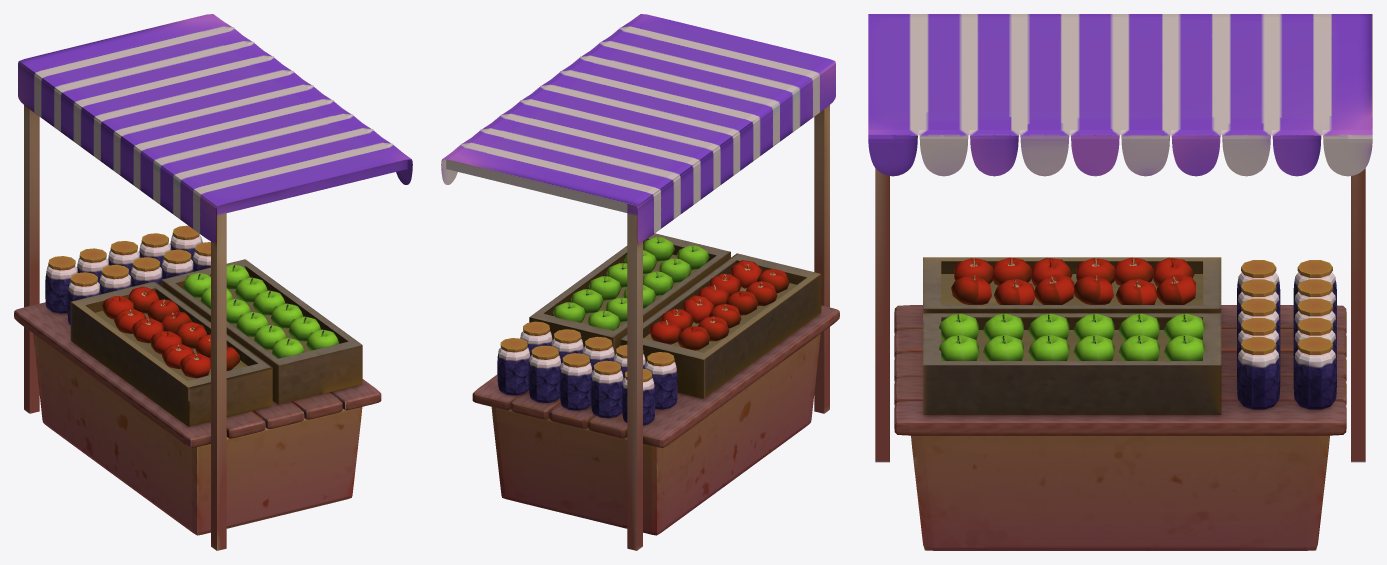
Rendered from Stall2purple.fbx.
3 views of the same model, side by side, from view 1: azimuth 30°, elevation 25°; view 2: azimuth 150°, elevation 25°; view 3: azimuth 270°, elevation 25° (orthographic). The views are drawn at different scales.
Parts seen in each view (by area): view 1: Plane, Cube, Cube.008, Cube.010, Cube.007, Cylinder.002, Cube.011, Sphere.003, Sphere.002, Sphere.004, Plane.007; view 2: Plane, Cube, Cylinder.002, Cube.008, Cube.010, Cube.007, Sphere.003, Cube.011, Sphere.002, Sphere.004, Plane.007; view 3: Plane, Cube, Cube.011, Cube.007, Cylinder.002, Sphere.003, Cube.008, Cube.010, Sphere.004, Sphere.002, Plane.007, Plane.008.
Boxes of the visible parts, <box> form: Plane: <box>18,14,412,242</box>; Cube: <box>33,334,362,535</box>; Cube.008: <box>24,105,407,550</box>; Cube.010: <box>70,281,272,426</box>; Cube.007: <box>14,302,381,447</box>; Cylinder.002: <box>45,225,210,324</box>; Cube.011: <box>161,259,362,404</box>; Sphere.003: <box>183,264,339,358</box>; Sphere.002: <box>102,286,191,343</box>; Sphere.004: <box>150,321,239,378</box>; Plane.007: <box>95,311,247,380</box>; Plane: <box>441,14,835,242</box>; Cube: <box>491,334,820,535</box>; Cylinder.002: <box>497,321,677,425</box>; Cube.008: <box>446,105,829,550</box>; Cube.010: <box>619,253,821,398</box>; Cube.007: <box>472,305,839,447</box>; Sphere.003: <box>553,237,709,330</box>; Cube.011: <box>529,233,730,354</box>; Sphere.002: <box>649,295,741,350</box>; Sphere.004: <box>697,260,789,315</box>; Plane.007: <box>644,274,796,352</box>; Plane: <box>868,14,1372,176</box>; Cube: <box>911,435,1329,550</box>; Cube.011: <box>923,313,1221,414</box>; Cube.007: <box>894,305,1346,435</box>; Cylinder.002: <box>1237,260,1336,409</box>; Sphere.003: <box>939,313,1204,360</box>; Cube.008: <box>875,168,1365,462</box>; Cube.010: <box>923,257,1221,312</box>; Sphere.004: <box>951,257,1074,304</box>; Sphere.002: <box>1074,257,1195,304</box>; Plane.007: <box>941,274,1202,304</box>; Plane.008: <box>941,330,1202,360</box>.
Size of the model in its own units: 906 by 1418 by 1467.
